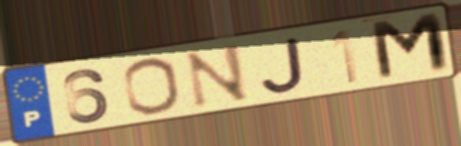1: (330, 27, 361, 84)
6: (61, 67, 113, 125)
J: (259, 34, 308, 95)
M: (366, 9, 455, 84)
N: (182, 41, 252, 111)
O: (120, 56, 184, 117)
